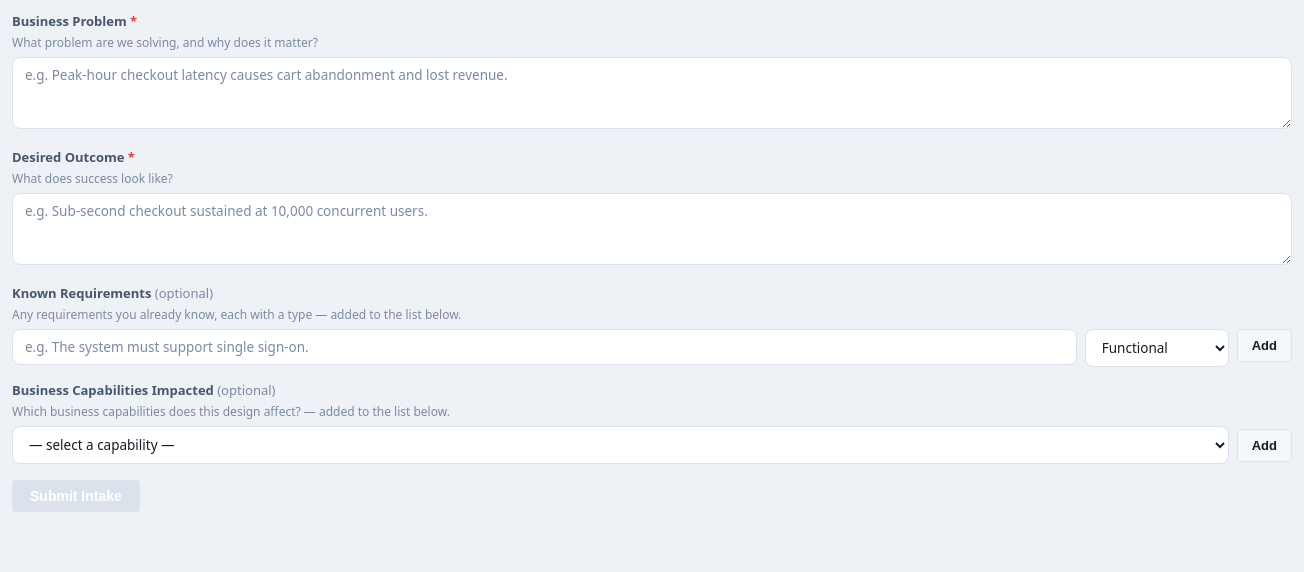
Test case: IntakeTextForm Known Requirements typed list › adds a requirement to the list with its chosen kind, and allows removing it
The image size is (1304, 572).
Type "The system must support SSO" into the field with placeholder "e.g. The system must support single sign-on." at (544, 347), box [12,329,1077,365]
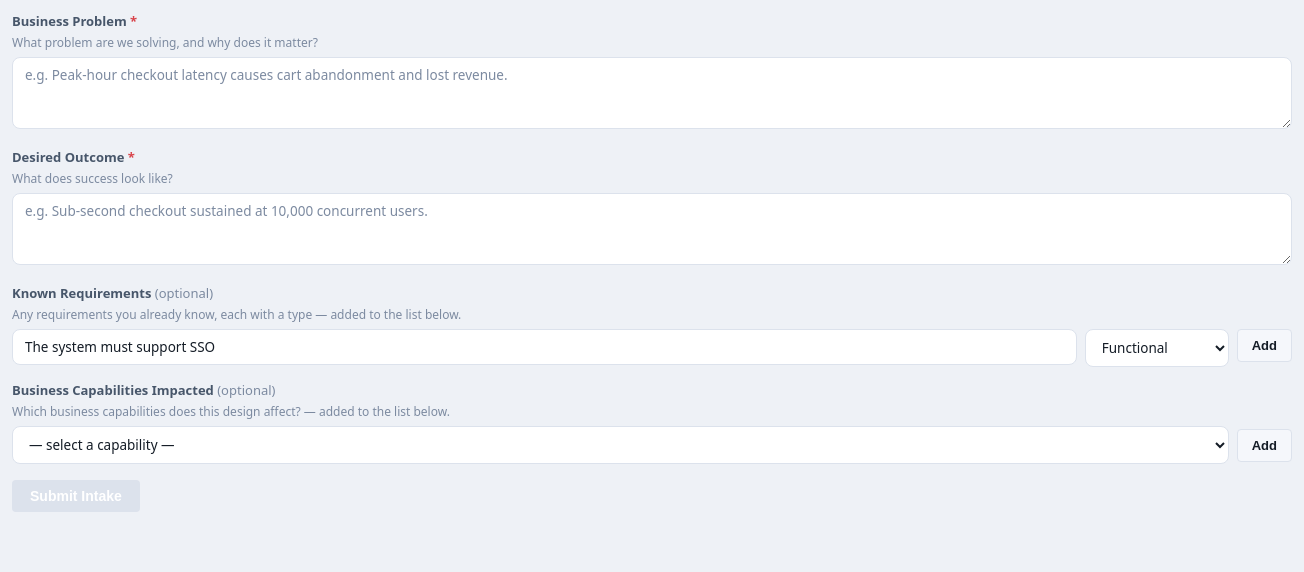
Select "Functional" in the dropdown showing "Functional" at (1157, 348), box [1085,329,1229,367]
Click the 1st button "Add" at (1264, 346), box [1237,329,1292,362]
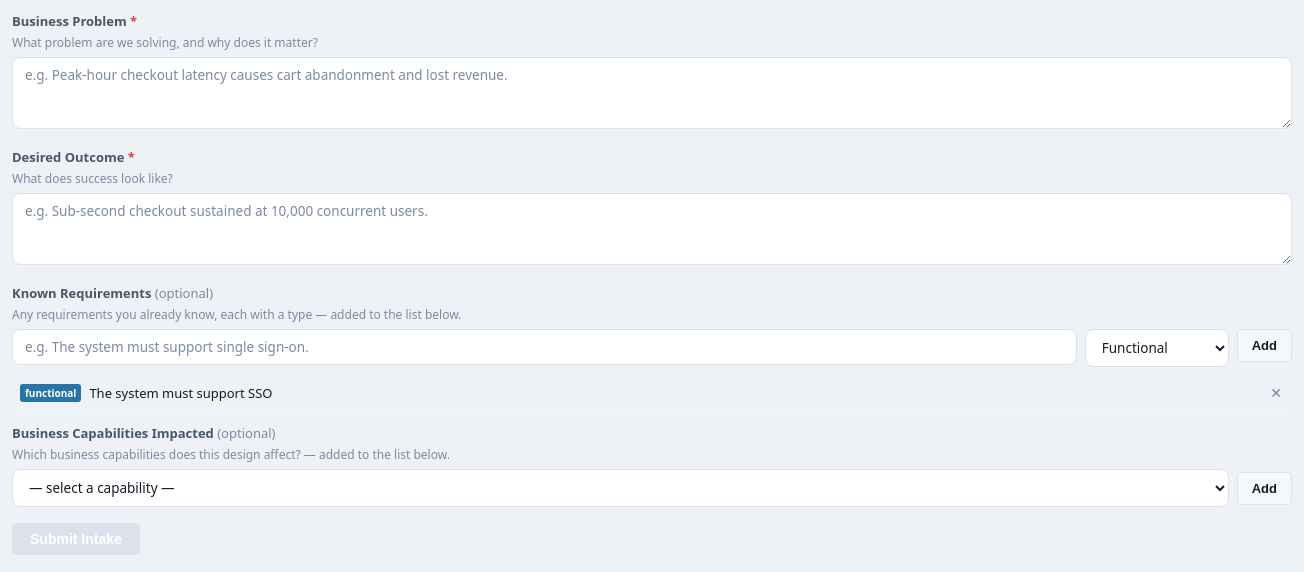
Check: the text "The system must support SSO" is shown, box [89,384,272,402]
Check: the text "functional" is shown, box [20,384,81,402]
Click the button titled "Remove" at (1276, 393), box [1268,383,1284,403]
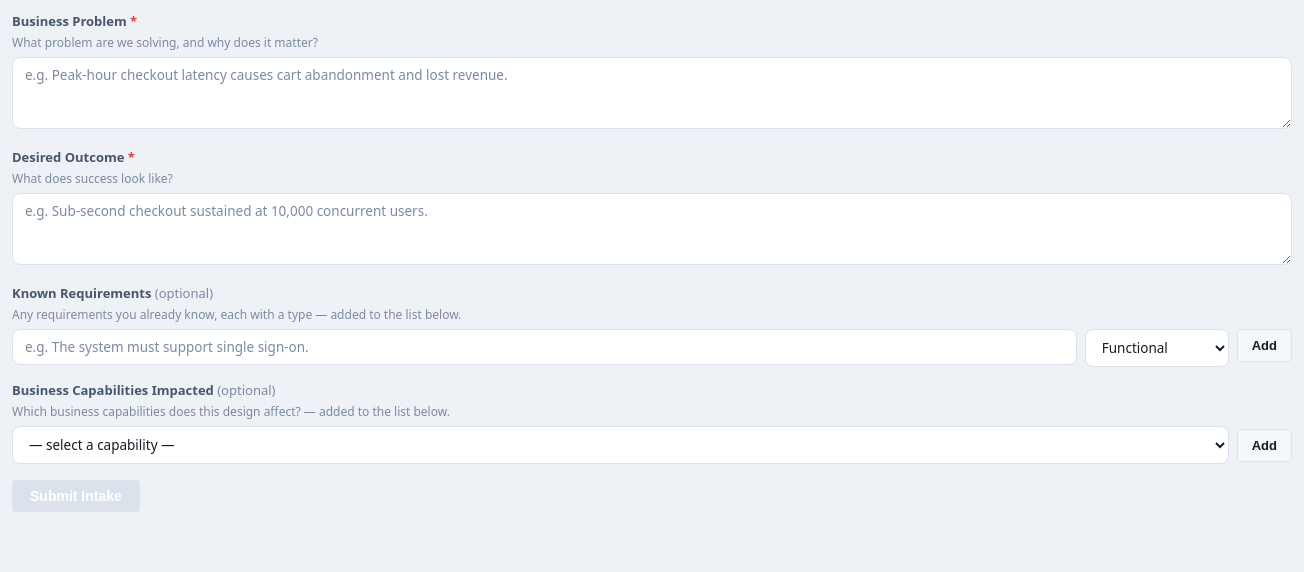
Check: the text "The system must support SSO" is gone
